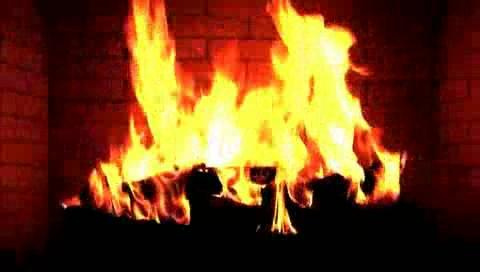fire: (69, 0, 462, 229)
